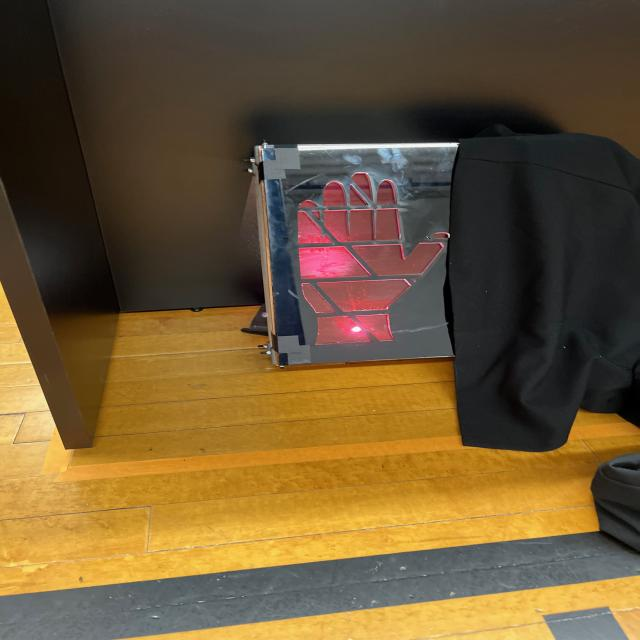stop: (261, 145, 462, 366)
